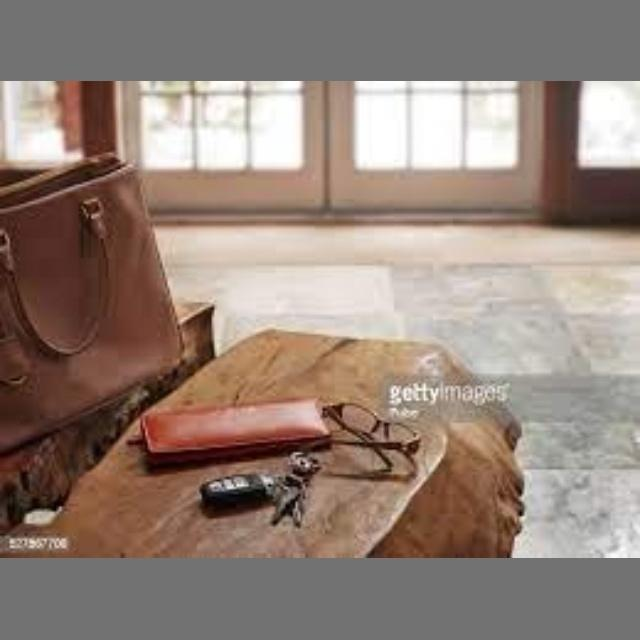Wallet: (120, 392, 324, 476)
